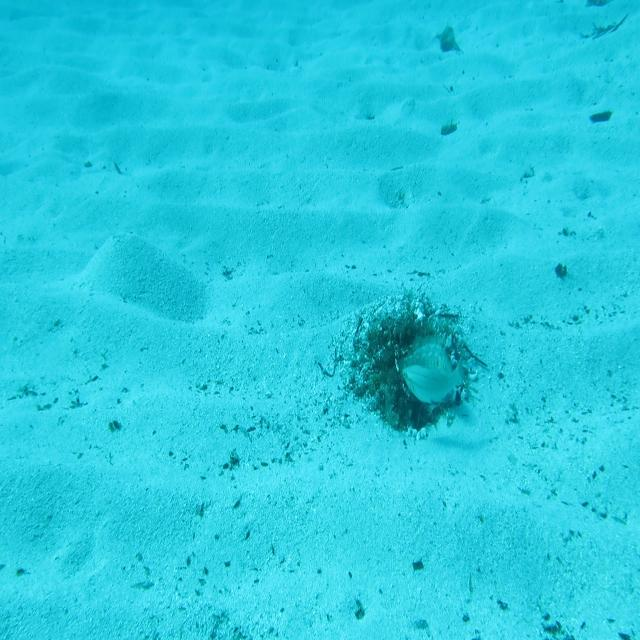DAN_CIRC: (394, 331, 454, 389)
female: (402, 354, 466, 408)
nest: (350, 291, 480, 443)
